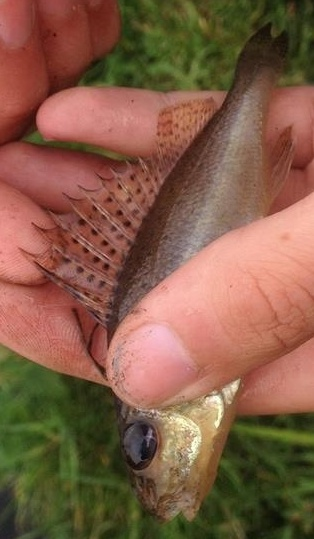Gymnocephalus cernuus: (20, 20, 294, 519)
